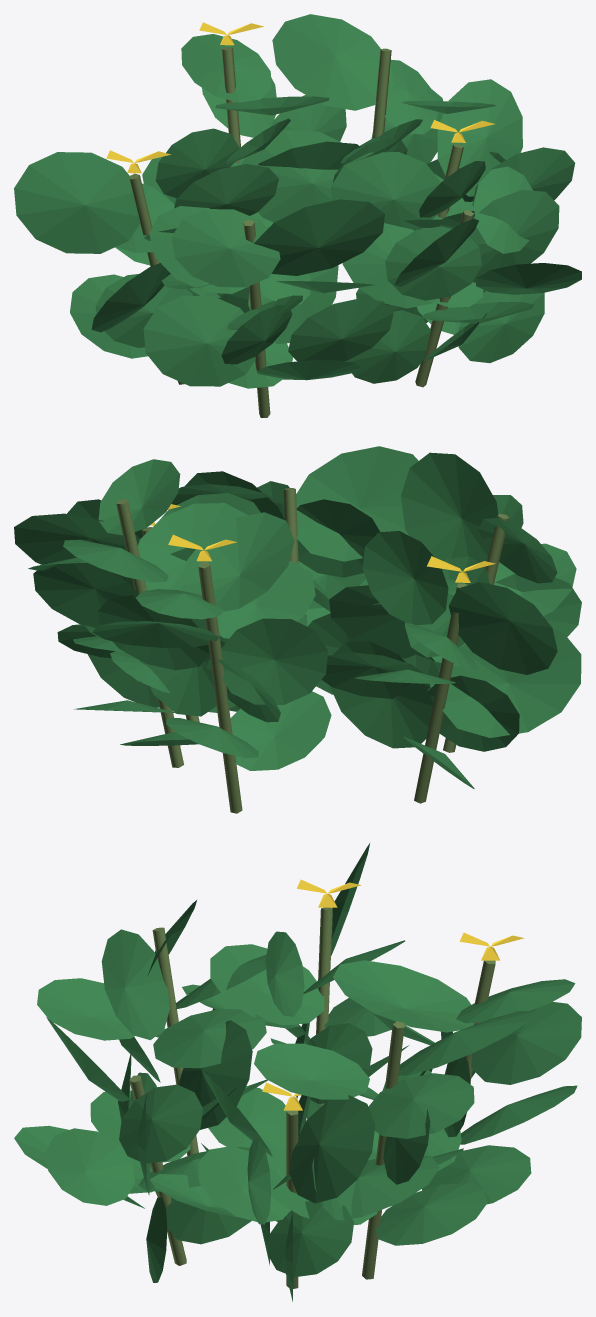
The model's file is arachis-pintoi.glb.
The picture shows the model from 3 angles, top to bottom: view 1: azimuth 30°, elevation 25°; view 2: azimuth 150°, elevation 25°; view 3: azimuth 270°, elevation 25°; orthographic projection. The views are drawn at different scales.
Parts seen in each view (by area): view 1: Species leaves, Species stems, Species flowers / bracts; view 2: Species leaves, Species stems, Species flowers / bracts; view 3: Species leaves, Species stems, Species flowers / bracts.
Part boxes in pixels (box(x1,y1,x2,y2)): Species leaves: box(14, 14, 581, 388); Species stems: box(129, 47, 474, 417); Species flowers / bracts: box(106, 22, 495, 173); Species leaves: box(14, 446, 581, 788); Species stems: box(116, 488, 509, 813); Species flowers / bracts: box(150, 504, 495, 582); Species leaves: box(14, 843, 581, 1301); Species stems: box(129, 907, 495, 1288); Species flowers / bracts: box(262, 879, 524, 1110).
Size of the model in its own units: 0.3943 by 0.196 by 0.3454.
